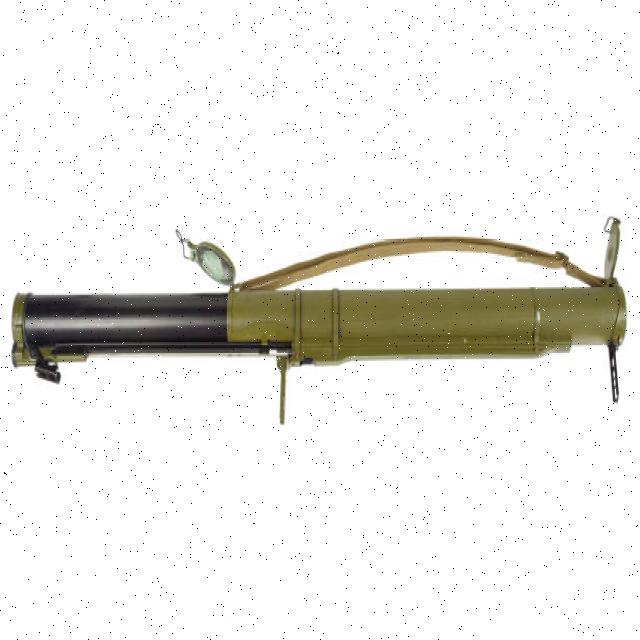bazooka: (2, 212, 632, 433)
